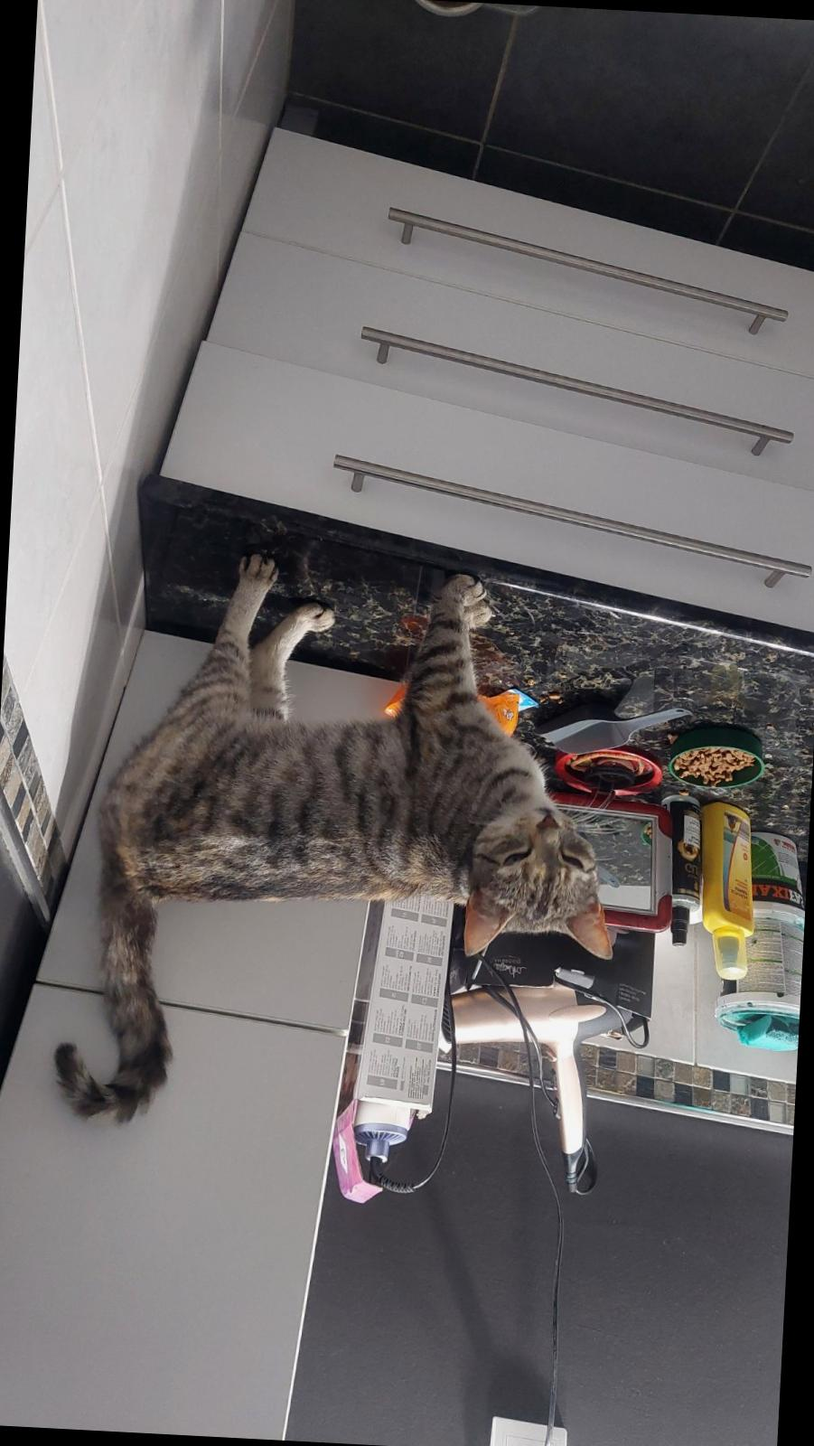macka: (48, 552, 637, 1151)
